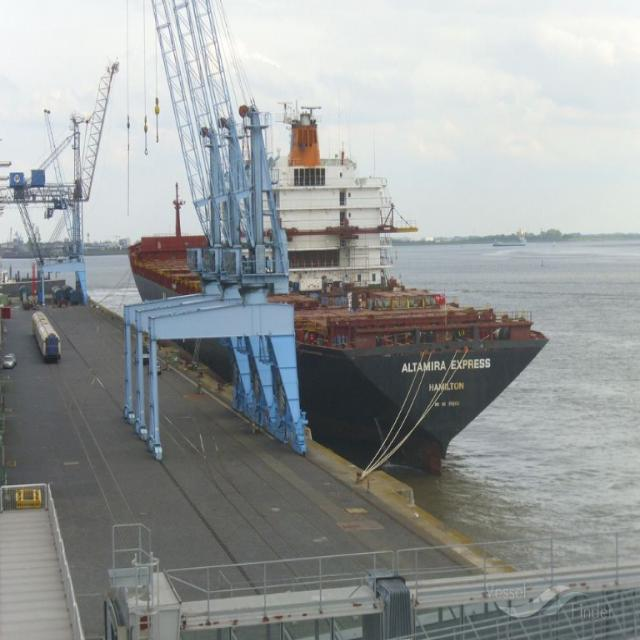Container Ship: (131, 103, 548, 469)
